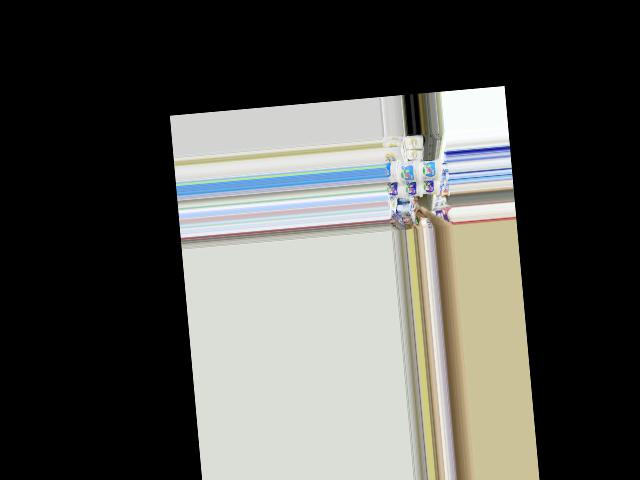cotage: (401, 178, 422, 197)
